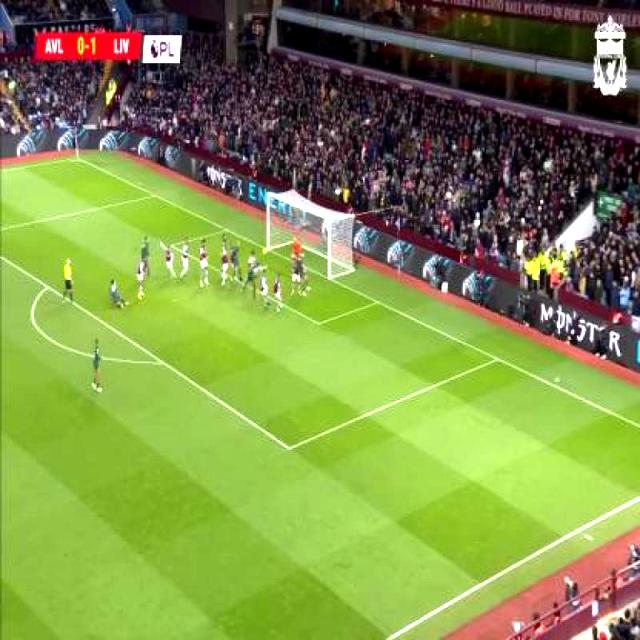bigarea_bottom_inner: (284, 442, 296, 456)
bigarea_top_outter: (151, 190, 159, 203)
bottom_arc_area_intersection: (158, 357, 166, 369)
corner: (72, 154, 83, 164)
smallarea_bottom_inner: (314, 317, 323, 331)
smallarea_bottom_outter: (374, 297, 382, 308)
smallarea_top_inner: (494, 352, 503, 368), (169, 241, 176, 251)
smallarea_top_outter: (221, 225, 231, 238)
top_arc_area_intersection: (45, 283, 50, 292)
